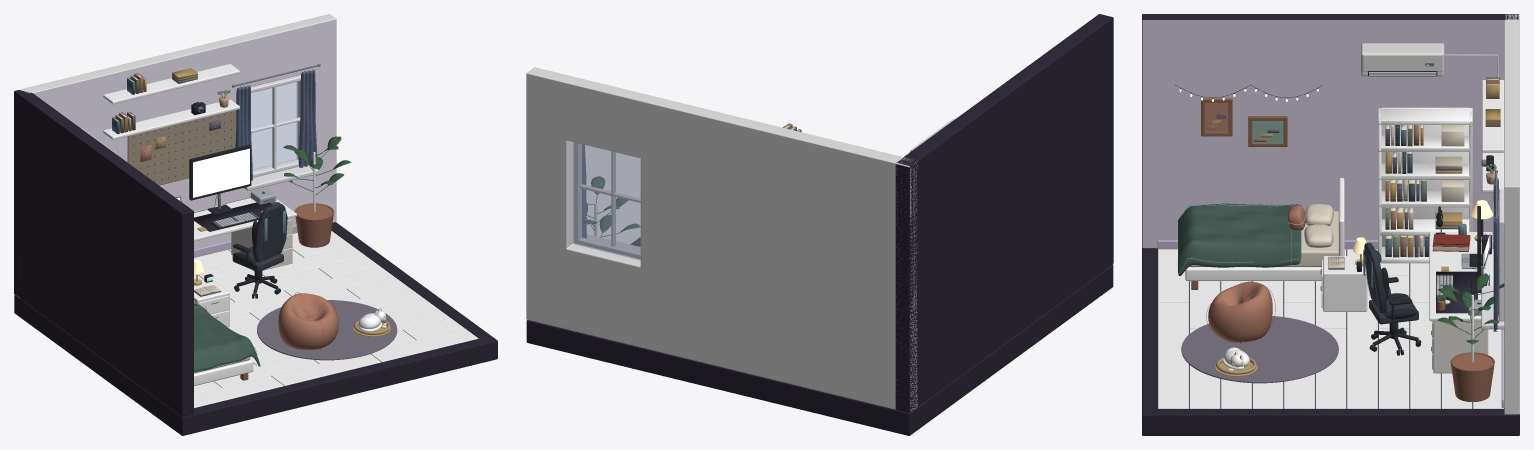
The model's file is room-day.glb.
3 views of the same model, side by side, from view 1: azimuth 30°, elevation 25°; view 2: azimuth 150°, elevation 25°; view 3: azimuth 270°, elevation 25° (orthographic). The views are drawn at different scales.
Parts seen in each view (by area): view 1: V2_Room_LeftWall, V2_Room_RearWall, V2_Room_Plinth, V2_Block_Pegboard, V2_Block_Rug, V2_Room_Glass | Day, V2_Soft_Beanbag, V2_Detail_GamingChair, V2_Soft_DrapedQuilt, Computer_Screen, V2_Soft_PleatedCurtain1, V2_Room_Board_00_02 (+28 smaller); view 2: V2_Room_RearWall, V2_Room_LeftWall, V2_Room_Plinth, V2_Room_Glass | Day, V2_Room_WindowStile.001; view 3: V2_Room_LeftWall, V2_Room_Plinth, Bookshelf, V2_Soft_DrapedQuilt, V2_Block_Rug, V2_Room_RearWall, V2_Soft_Beanbag, V2_Detail_GamingChair, AirConditioner, V2_Block_Nightstand, V2_Block_DeskCabinet, V2_Block_DeskTop (+45 smaller).
Part boxes in pixels (box(x1,y1,x2,y2)): V2_Room_LeftWall: box(14, 90, 193, 416); V2_Room_RearWall: box(16, 14, 336, 297); V2_Room_Plinth: box(14, 222, 497, 435); V2_Block_Pegboard: box(127, 110, 236, 185); V2_Block_Rug: box(257, 300, 397, 360); V2_Room_Glass | Day: box(251, 81, 298, 170); V2_Soft_Beanbag: box(278, 293, 338, 349); V2_Detail_GamingChair: box(232, 203, 287, 298); V2_Soft_DrapedQuilt: box(194, 304, 260, 371); Computer_Screen: box(193, 148, 249, 197); V2_Soft_PleatedCurtain1: box(298, 69, 317, 167); V2_Room_Board_00_02: box(371, 328, 478, 362); V2_Room_RearWall: box(526, 67, 917, 411); V2_Room_LeftWall: box(895, 14, 1113, 412); V2_Room_Plinth: box(526, 237, 1113, 435); V2_Room_Glass | Day: box(573, 142, 640, 260); V2_Room_WindowStile.001: box(575, 142, 581, 242); V2_Room_LeftWall: box(1142, 14, 1518, 248); V2_Room_Plinth: box(1142, 248, 1519, 435); Bookshelf: box(1378, 107, 1472, 263); V2_Soft_DrapedQuilt: box(1178, 203, 1301, 275); V2_Block_Rug: box(1181, 316, 1338, 383); V2_Room_RearWall: box(1504, 14, 1519, 414); V2_Soft_Beanbag: box(1208, 281, 1272, 342); V2_Detail_GamingChair: box(1363, 243, 1421, 355); AirConditioner: box(1361, 43, 1444, 76); V2_Block_Nightstand: box(1323, 256, 1367, 311); V2_Block_DeskCabinet: box(1433, 321, 1488, 373); V2_Block_DeskTop: box(1429, 232, 1492, 321).
Size of the model in its own units: 5.2 by 3.5 by 4.8.
